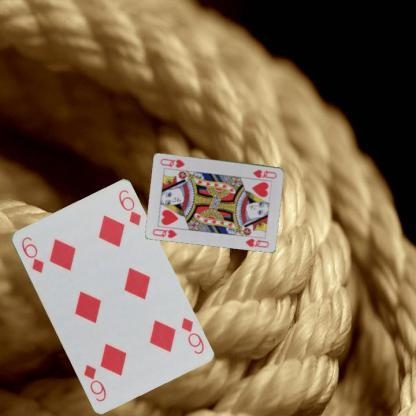6d: (178, 314, 205, 356), (19, 233, 45, 274)
Qh: (150, 225, 178, 240), (251, 168, 278, 180)
